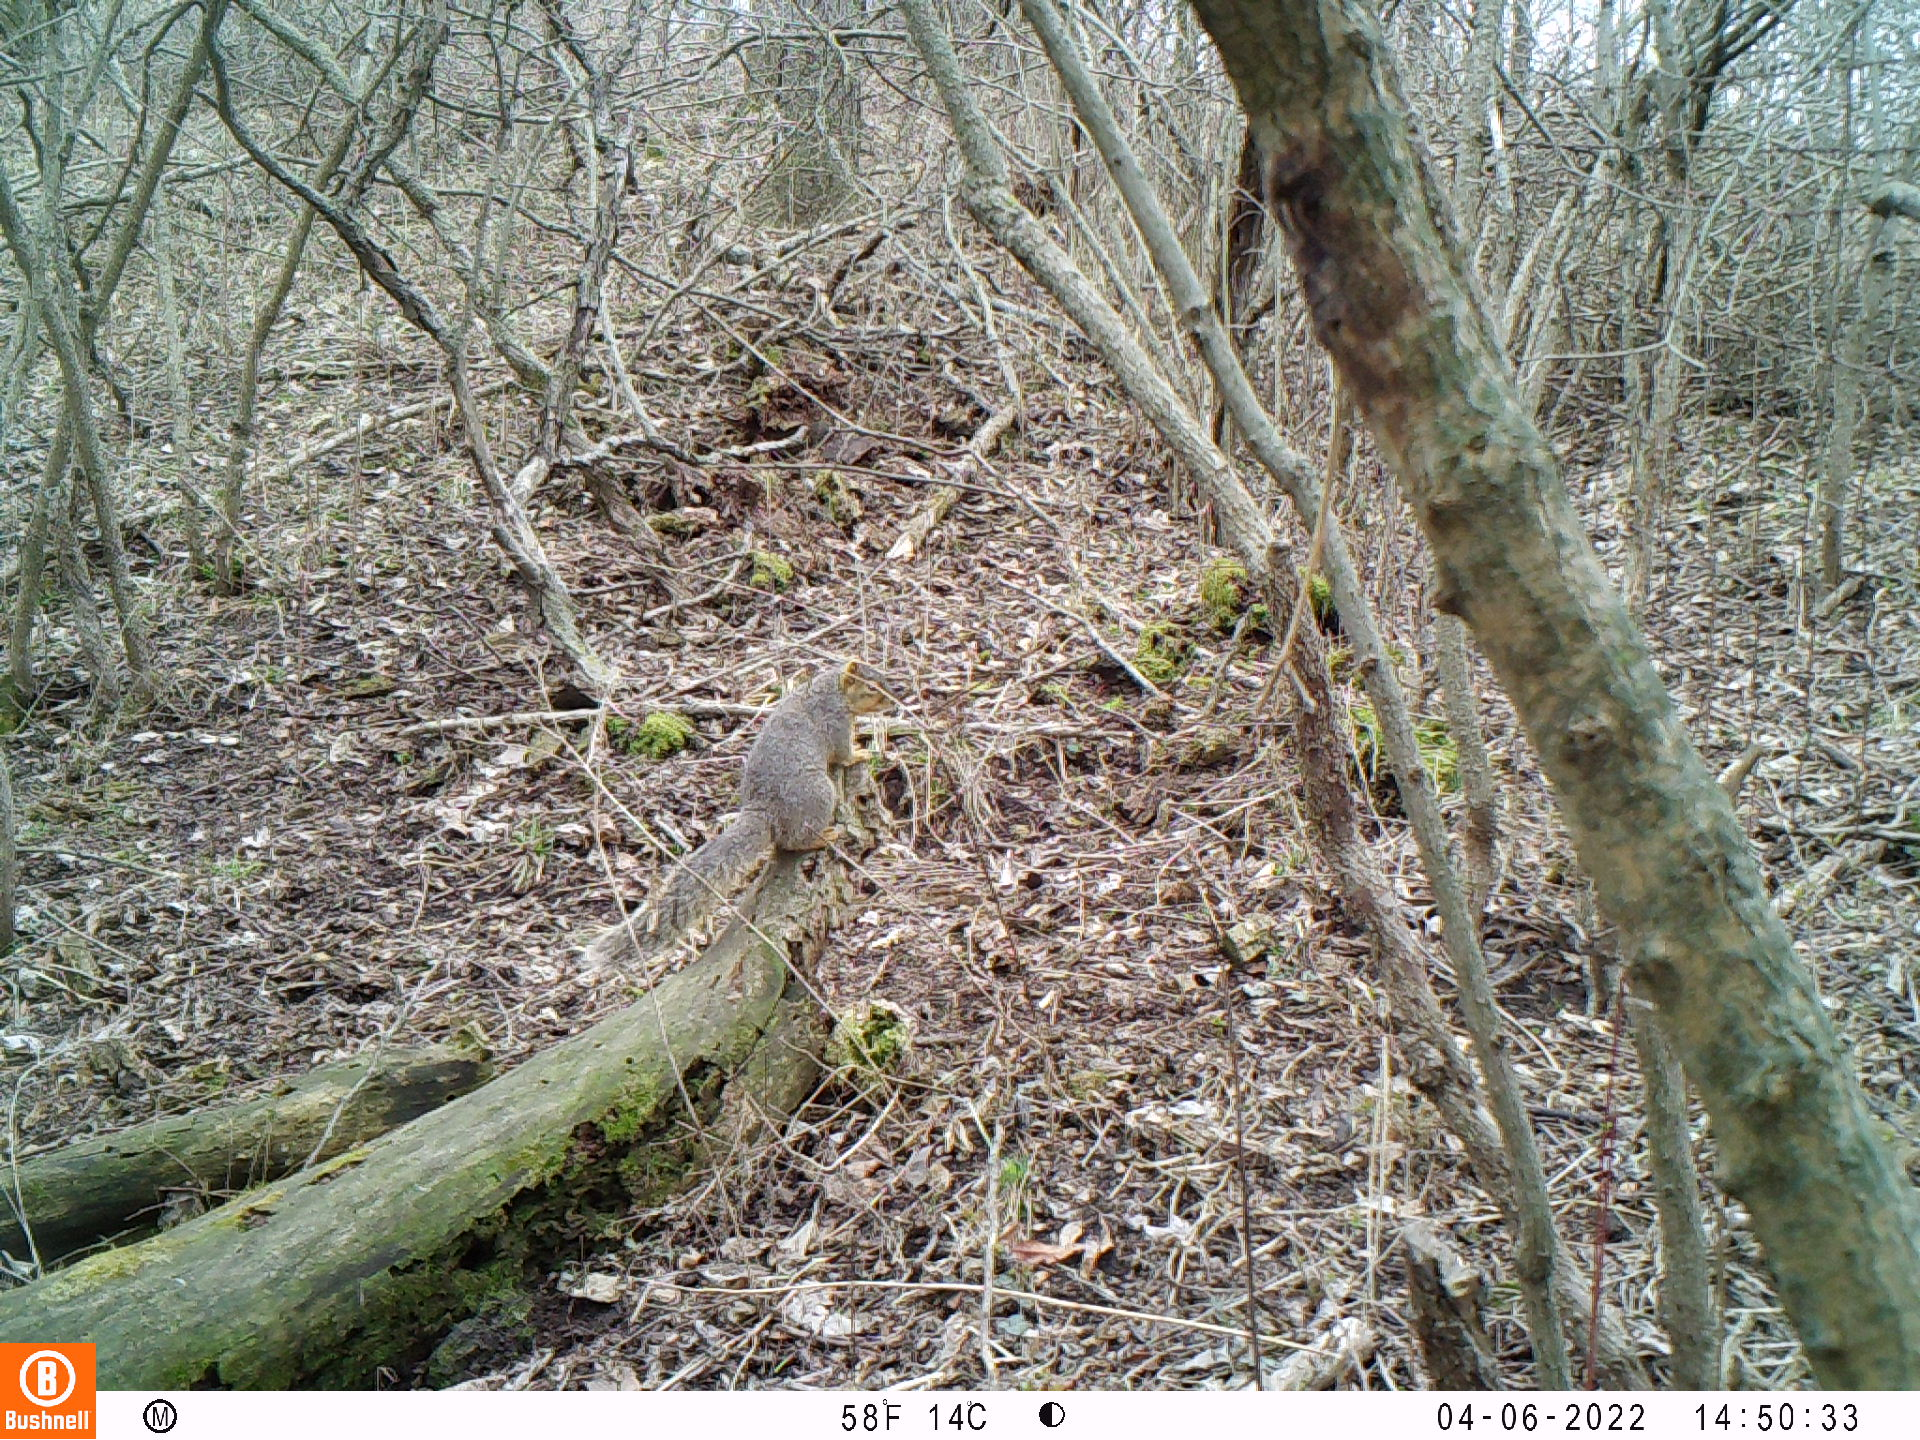Squirrel: (599, 656, 893, 970)
